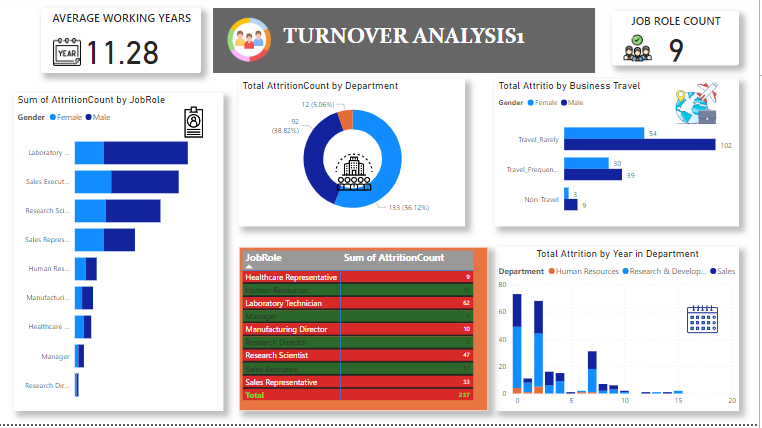

Layout of this report page (visuals, bound fields, positions):
{"tool":"powerbi","page":{"name":"page3","canvas":[1280,720],"ordinal":2},"visuals":[{"type":"barChart","title":"Sum of AttritionCount by JobRole ","fields":{"Category":["HR-Employee-Attrition.JobRole"],"Y":["Sum(HR-Employee-Attrition.AttritionCount)"],"Series":["HR-Employee-Attrition.Gender"]},"box":[30.2,164.4,350.6,533.5],"z":0},{"type":"clusteredBarChart","title":"Total Attritio by Business Travel ","fields":{"Category":["HR-Employee-Attrition.Business Travel"],"Y":["Sum(HR-Employee-Attrition.AttritionCount)"],"Series":["HR-Employee-Attrition.Gender"]},"box":[837.1,140.9,409.3,246.6],"z":1000},{"type":"donutChart","title":"Total AttritionCount by Department","fields":{"Y":["Sum(HR-Employee-Attrition.AttritionCount)"],"Category":["HR-Employee-Attrition.Department"]},"box":[407.7,140.9,379.1,246.6],"z":2000},{"type":"columnChart","title":"Total Attrition by Year in Department","fields":{"Y":["Sum(HR-Employee-Attrition.AttritionCount)"],"Series":["HR-Employee-Attrition.Department"],"Category":["HR-Employee-Attrition.YearsInCurrentRole"]},"box":[837.1,422.8,409.3,275.1],"z":3000},{"type":"pivotTable","fields":{"Rows":["HR-Employee-Attrition.JobRole"],"Values":["Sum(HR-Employee-Attrition.AttritionCount)"]},"box":[407.7,422.8,417.7,275.1],"z":4000},{"type":"card","title":"AVERAGE WORKING YEARS","fields":{"Values":["Avg(HR-Employee-Attrition.Total Working Years)"]},"box":[75.5,21.8,268.4,109],"z":5000},{"type":"card","title":"JOB ROLE COUNT","fields":{"Values":["HR-Employee-Attrition.Job Role"]},"box":[1033.4,26.8,213.1,90.6],"z":6000},{"type":"image","box":[90.6,67.1,57,57],"z":7000},{"type":"image","box":[298.6,181.2,65.4,63.7],"z":8000},{"type":"image","box":[1041.8,60.4,68.8,57],"z":10000},{"type":"image","box":[1130.7,140.9,88.9,80.5],"z":11000},{"type":"image","box":[1150.8,505,68.8,75.5],"z":12000},{"type":"image","box":[563.7,260,73.8,73.8],"z":13000},{"type":"textbox","box":[364,21.8,640.8,109],"z":14000},{"type":"image","box":[380.8,31.9,87.2,85.6],"z":16000}]}

Visuals, with their boxes in screenshot pixels (x1, y1, x2, y2), scaled from the page's 1280x720 canvas onto the 762x428 screenshot:
"Sum of AttritionCount by JobRole " barChart: <region>18, 98, 227, 415</region>
"Total Attritio by Business Travel " clusteredBarChart: <region>498, 84, 742, 230</region>
"Total AttritionCount by Department" donutChart: <region>243, 84, 468, 230</region>
"Total Attrition by Year in Department" columnChart: <region>498, 251, 742, 415</region>
pivotTable - HR-Employee-Attrition.JobRole x Sum(HR-Employee-Attrition.AttritionCount): <region>243, 251, 491, 415</region>
"AVERAGE WORKING YEARS" card: <region>45, 13, 205, 78</region>
"JOB ROLE COUNT" card: <region>615, 16, 742, 70</region>
image: <region>54, 40, 88, 74</region>
image: <region>178, 108, 217, 146</region>
image: <region>620, 36, 661, 70</region>
image: <region>673, 84, 726, 132</region>
image: <region>685, 300, 726, 345</region>
image: <region>336, 155, 380, 198</region>
textbox: <region>217, 13, 598, 78</region>
image: <region>227, 19, 279, 70</region>
